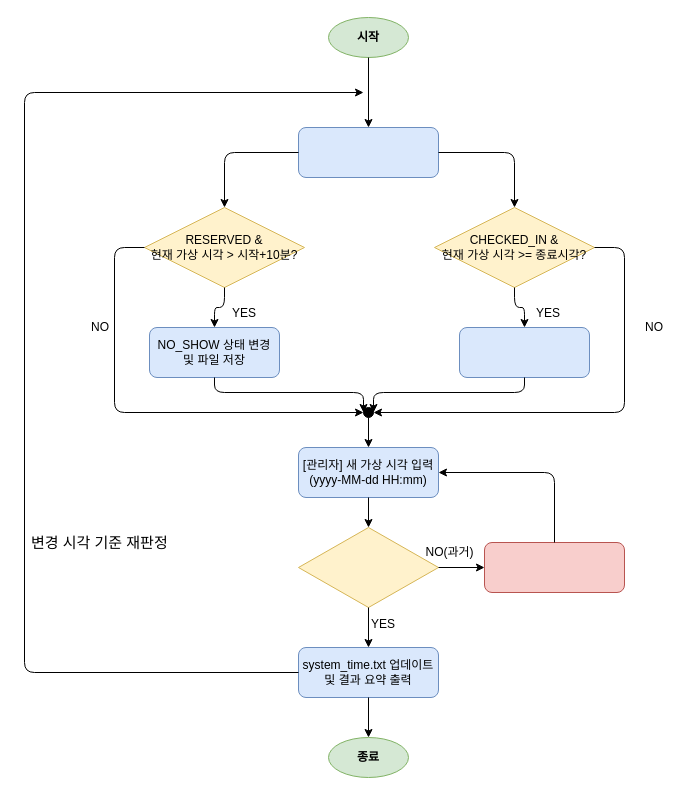
Image size: 682x795. Some labels were removed from this diagram. The box of each missing label's shape, as (x1, y1, x2, y2) in pixels:
COMPLETED 상태 변경 및 파일 저장: (458, 326, 590, 378)
예약 상태 자동 갱신 (전체 리스트 스캔): (298, 126, 438, 178)
오류 메시지 출력 (과거 시각 변경 불가): (484, 542, 624, 592)
입력 시각 >= 현재 가상 시각?: (298, 526, 438, 608)
